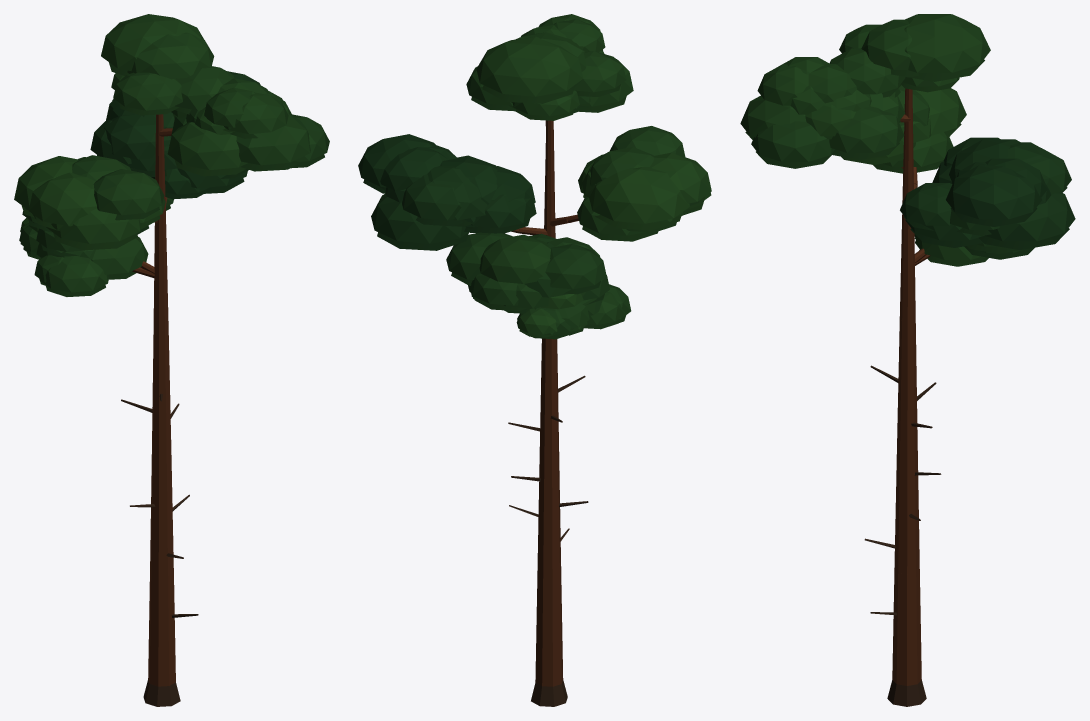
File: tree_pine_2.glb
3 renders of one model, left to right at view 1: azimuth 30°, elevation 25°; view 2: azimuth 150°, elevation 25°; view 3: azimuth 270°, elevation 25°, orthographic. The views are drawn at different scales.
Parts seen in each view (by area): view 1: leaf, wood; view 2: leaf, wood; view 3: leaf, wood.
Boxes of the visible parts, <box> form: leaf: <box>14,14,329,296</box>; wood: <box>121,114,198,706</box>; leaf: <box>358,14,711,339</box>; wood: <box>508,120,588,706</box>; leaf: <box>740,14,1075,266</box>; wood: <box>864,88,941,706</box>.
Size of the model in its own units: 7.13 by 16.02 by 7.14.
